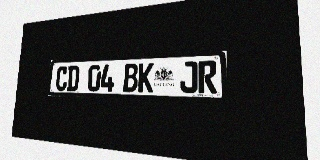0: (87, 65, 101, 92)
4: (100, 64, 114, 92)
B: (123, 63, 138, 92)
C: (55, 66, 68, 91)
D: (66, 66, 80, 91)
J: (180, 61, 198, 93)
K: (138, 63, 154, 92)
R: (198, 60, 217, 94)
